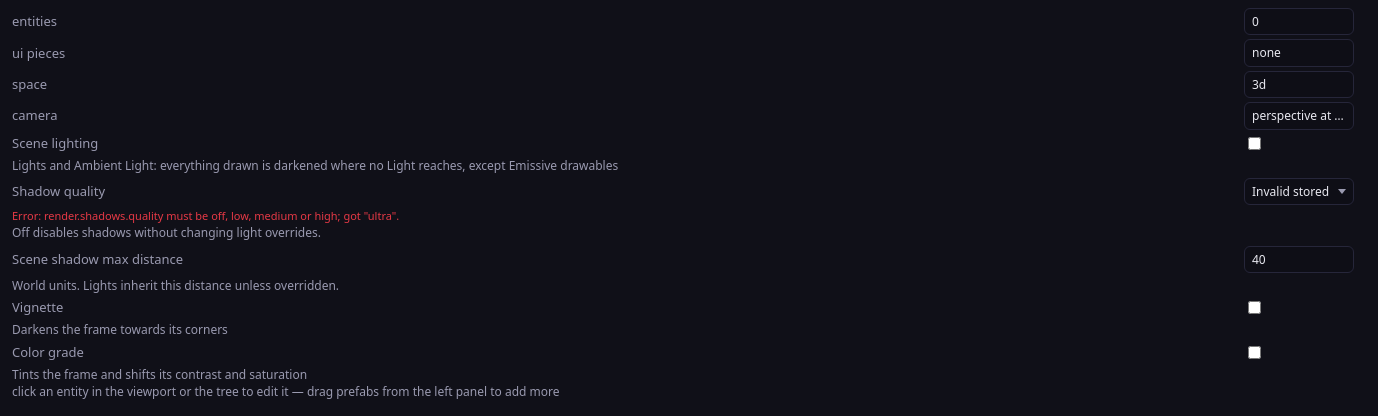
Test: CA-11: a rejected repair reports the capacity failure as well as the stored-data diagnostic
The image size is (1378, 416).
Select "High" in the dropdown labelled "Shadow quality" at [1299, 192], box [1244,178,1354,205]
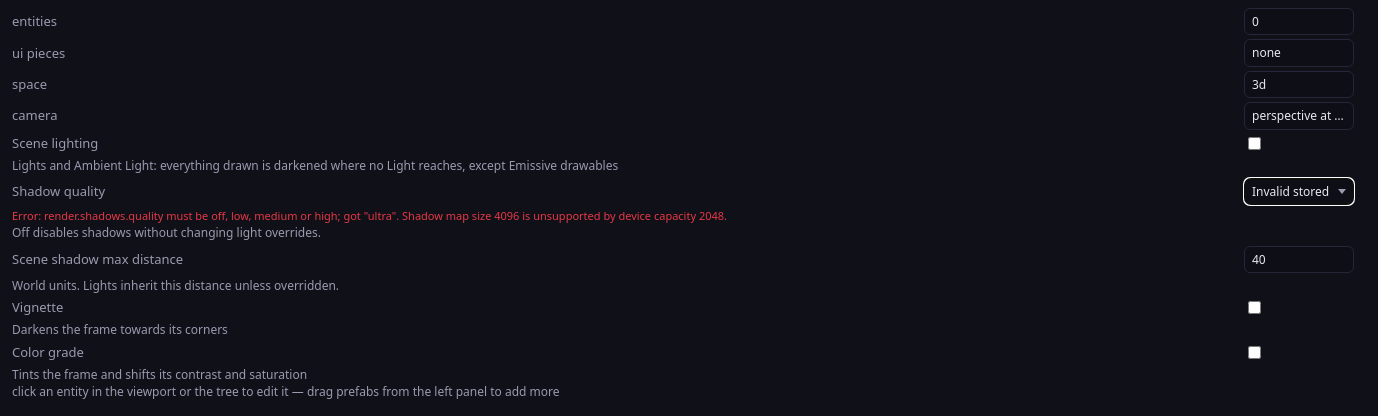
Check: the message shows "render.shadows.quality must be off, low, medium or high", box [44,208,727,223]
Check: the message shows "device capacity 2048", box [44,208,727,223]
